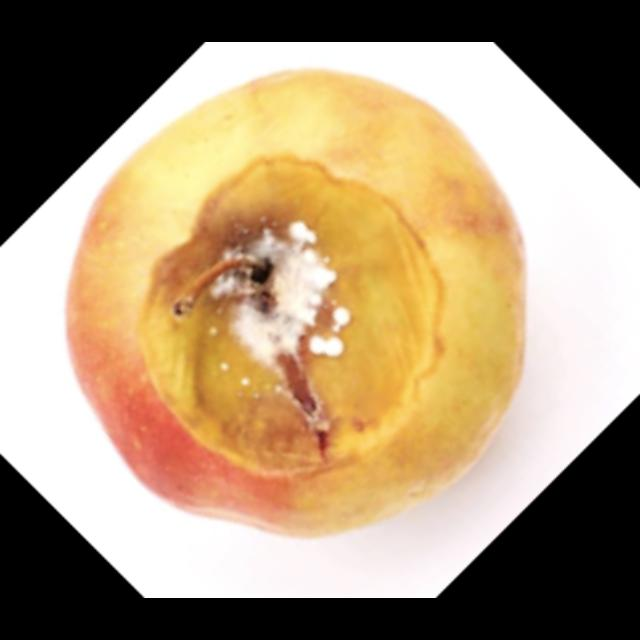Apel Tidak Segar: (47, 64, 589, 552)
